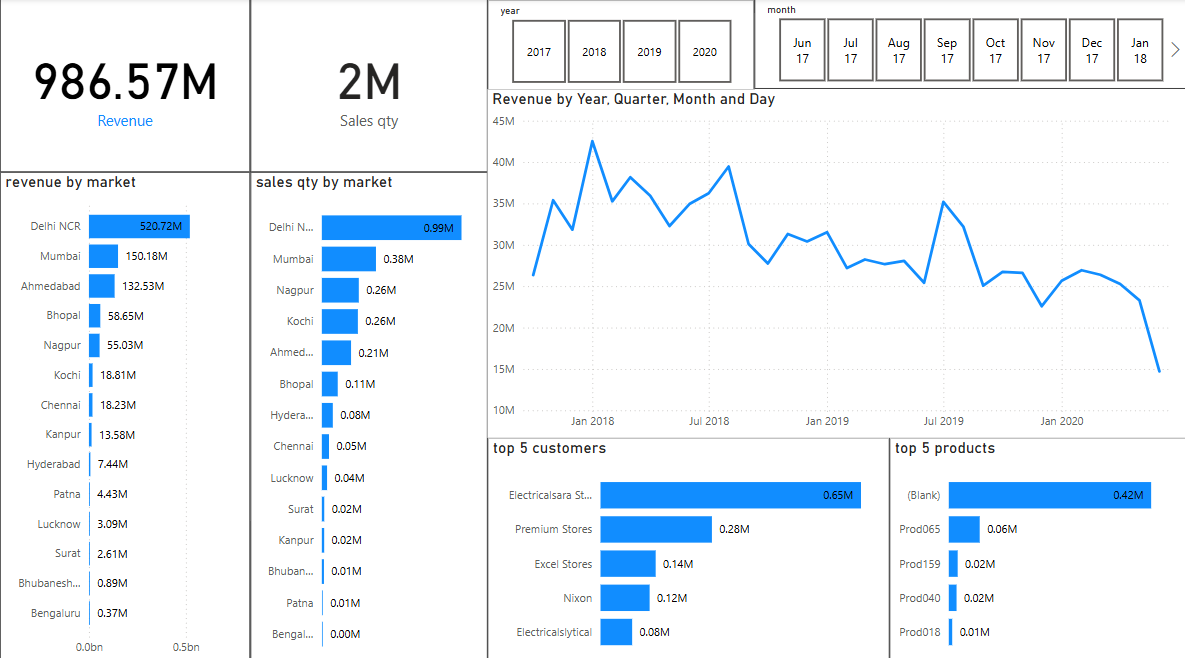

Layout of this report page (visuals, bound fields, positions):
{"tool":"powerbi","page":{"name":"Page 1","canvas":[1280,720],"ordinal":0},"visuals":[{"type":"card","fields":{"Values":["Sum(sales transactions.sales_amount)"]},"box":[0,0,270,188],"z":0},{"type":"card","fields":{"Values":["Sum(sales transactions.sales_qty)"]},"box":[270,0,256,188],"z":1000},{"type":"barChart","title":"revenue by market","fields":{"Y":["Sum(sales transactions.sales_amount)"],"Category":["sales markets.markets_name"]},"box":[0,188,270,532],"z":2000},{"type":"barChart","title":"sales qty by market","fields":{"Y":["Sum(sales transactions.sales_qty)"],"Category":["sales markets.markets_name"]},"box":[270,188,256,532],"z":3000},{"type":"slicer","fields":{"Values":["sales date.year"]},"box":[526,2,288,98],"z":4000},{"type":"slicer","title":"Month","fields":{"Values":["sales date.cy_date"]},"box":[814,0,466,98],"z":5000},{"type":"barChart","title":"top 5 customers","fields":{"Y":["Sum(sales transactions.sales_qty)"],"Category":["sales customers.custmer_name"]},"box":[526,474,434,246],"z":6000},{"type":"barChart","title":"top 5 products","fields":{"Y":["Sum(sales transactions.sales_qty)"],"Category":["sales products.product_code"]},"box":[960,474,320,246],"z":7000},{"type":"lineChart","title":" Revenue by Year, Quarter, Month and Day","fields":{"Y":["Sum(sales transactions.sales_amount)"],"Category":["sales date.cy_date.Variation.Date Hierarchy.Year","sales date.cy_date.Variation.Date Hierarchy.Quarter","sales date.cy_date.Variation.Date Hierarchy.Month","sales date.cy_date.Variation.Date Hierarchy.Day"]},"box":[526,98,754,376],"z":8000}]}

Visuals, with their boxes in screenshot pixels (x1, y1, x2, y2), scaled from the page's 1280x720 canvas onto the 1185x658 screenshot:
card - Sum(sales transactions.sales_amount): x1=0 y1=0 x2=250 y2=172
card - Sum(sales transactions.sales_qty): x1=250 y1=0 x2=487 y2=172
"revenue by market" barChart: x1=0 y1=172 x2=250 y2=657
"sales qty by market" barChart: x1=250 y1=172 x2=487 y2=657
slicer - sales date.year: x1=487 y1=2 x2=754 y2=91
"Month" slicer: x1=754 y1=0 x2=1184 y2=90
"top 5 customers" barChart: x1=487 y1=433 x2=889 y2=657
"top 5 products" barChart: x1=889 y1=433 x2=1184 y2=657
" Revenue by Year, Quarter, Month and Day" lineChart: x1=487 y1=90 x2=1184 y2=433
